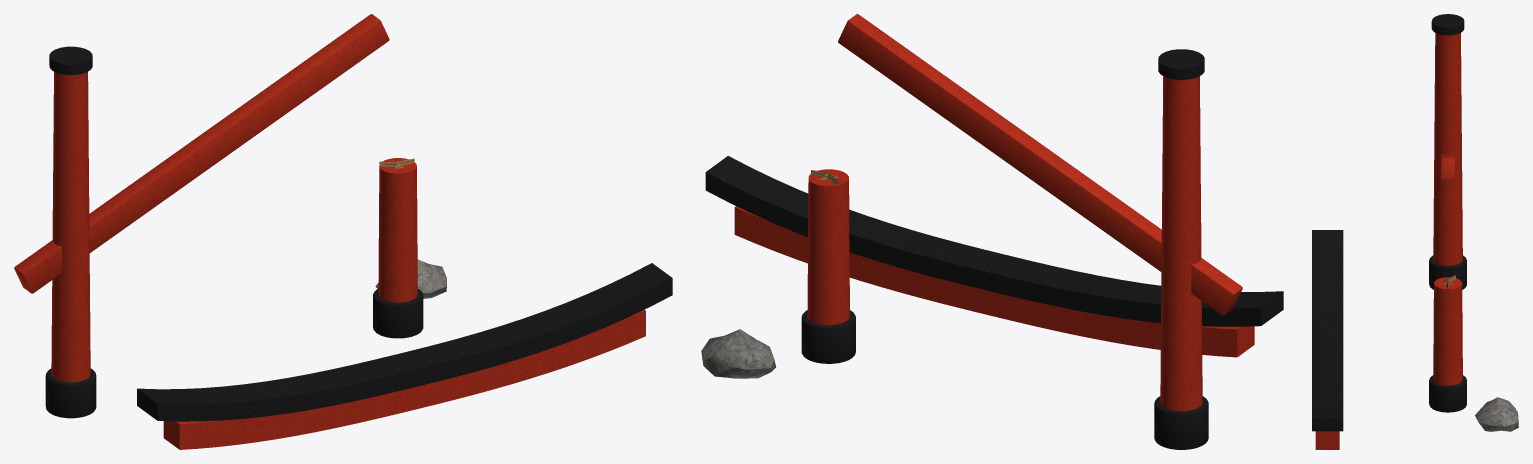
The model's file is gate_broken.gltf.
3 renders of one model, left to right at view 1: azimuth 30°, elevation 25°; view 2: azimuth 150°, elevation 25°; view 3: azimuth 270°, elevation 25°, orthographic. The views are drawn at different scales.
Parts seen in each view (by area): view 1: GateBrokenMesh; view 2: GateBrokenMesh; view 3: GateBrokenMesh.
Part boxes in pixels (x1,y1,x2,y2): GateBrokenMesh: [14, 14, 672, 449]; GateBrokenMesh: [701, 14, 1283, 449]; GateBrokenMesh: [1312, 14, 1518, 449].
Size of the model in its own units: 6.9 by 4.2 by 2.92.
Materials: 4 (4 with a texture image).
